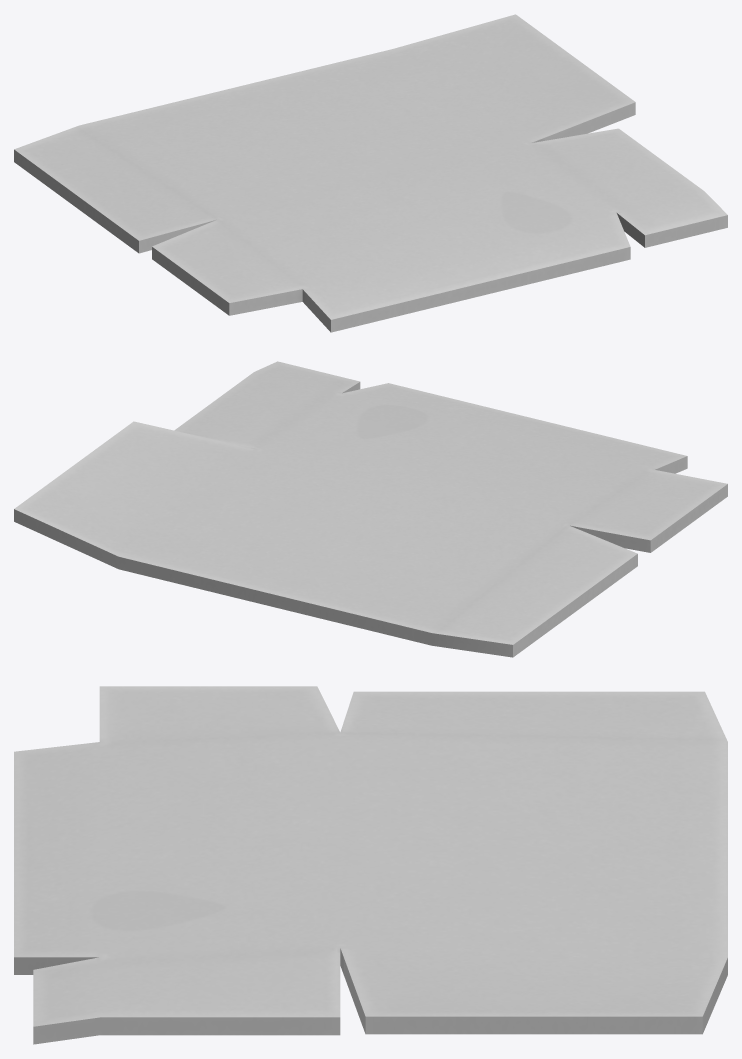
Rendered from SM_PaperBox__4.fbx.
The picture shows the model from 3 angles, top to bottom: view 1: azimuth 30°, elevation 25°; view 2: azimuth 150°, elevation 25°; view 3: azimuth 270°, elevation 25°; orthographic projection. The views are drawn at different scales.
Parts seen in each view (by area): view 1: Mat_PaperBox_White; view 2: Mat_PaperBox_White; view 3: Mat_PaperBox_White.
Part boxes in pixels (bbox=[...]): Mat_PaperBox_White: bbox=[14, 14, 727, 332]; Mat_PaperBox_White: bbox=[14, 361, 727, 657]; Mat_PaperBox_White: bbox=[14, 686, 727, 1044].
Bounding box in the file's own units: 1.82 × 0.1183 × 1.6.
1 material, 1 textured.
